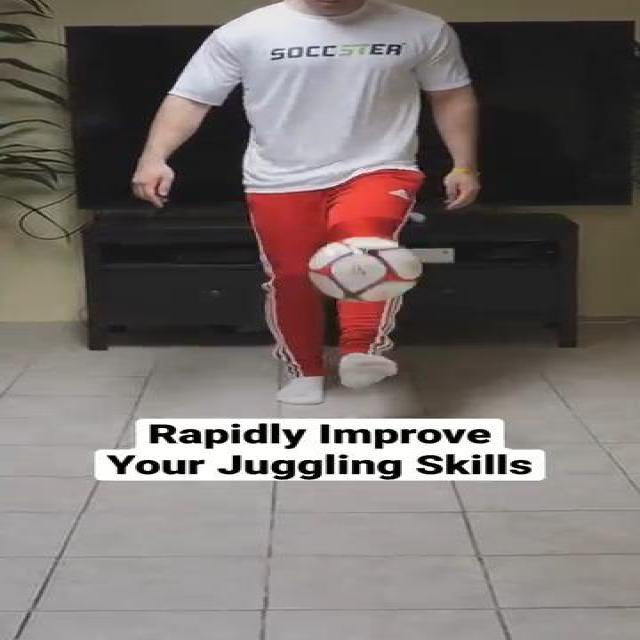Soccer Ball: (306, 236, 423, 302)
